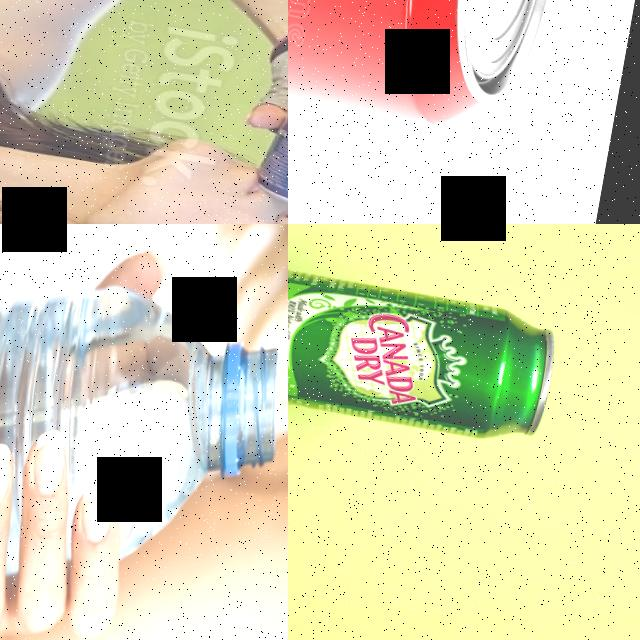bottle: (0, 224, 288, 640)
can: (288, 248, 566, 454), (288, 0, 593, 145), (240, 7, 288, 224)
